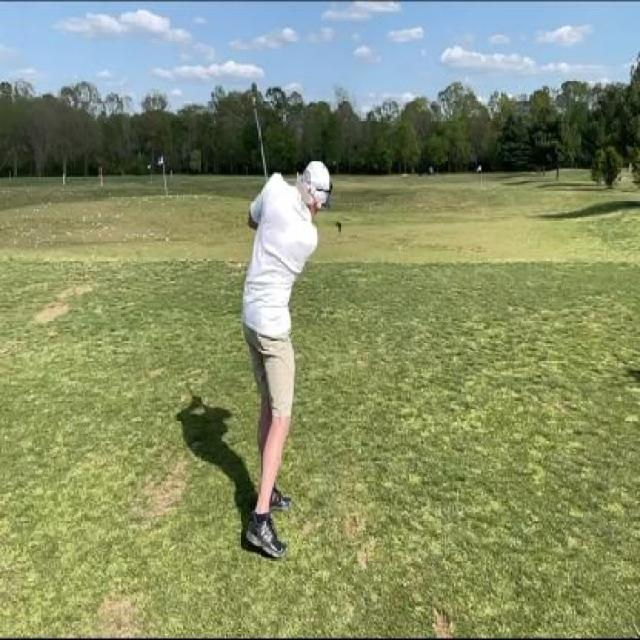club head: (247, 77, 259, 109)
